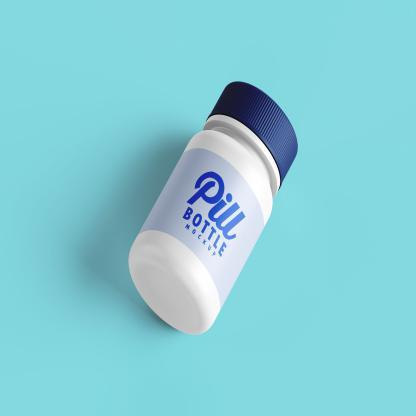jar: (107, 70, 320, 343)
